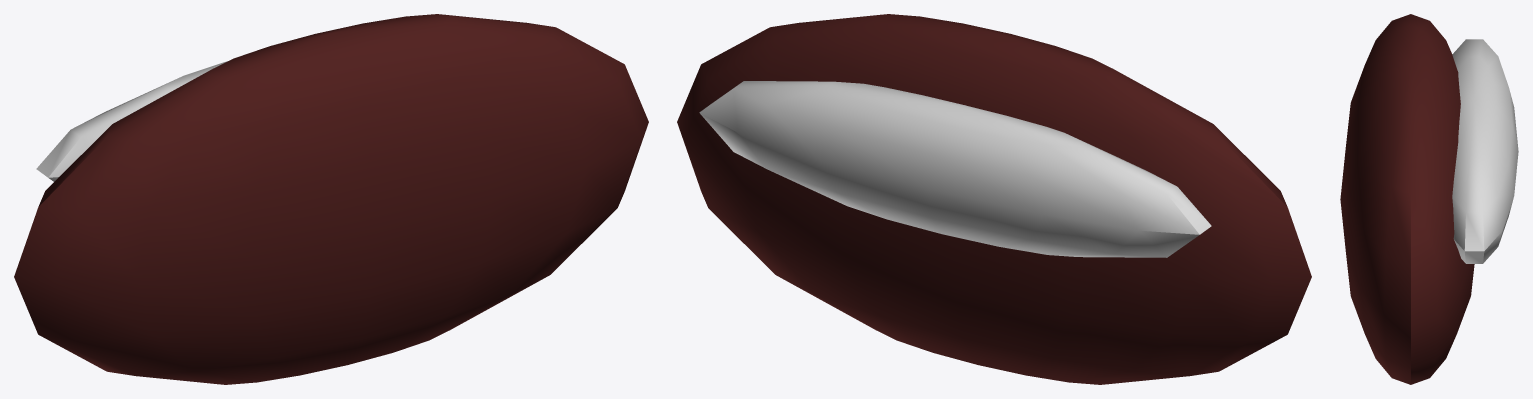
The model's file is Mouth3.fbx.
The picture shows the model from 3 angles, left to right: view 1: azimuth 30°, elevation 25°; view 2: azimuth 150°, elevation 25°; view 3: azimuth 270°, elevation 25°; orthographic projection. The views are drawn at different scales.
Visible parts, largest first — view 1: Mouth3; view 2: Mouth3; view 3: Mouth3.
Part boxes in pixels (x1,y1,x2,y2): Mouth3: (14,14,648,384); Mouth3: (677,14,1311,384); Mouth3: (1340,14,1518,384).
Size of the model in its own units: 0.136 by 0.068 by 0.0404.
